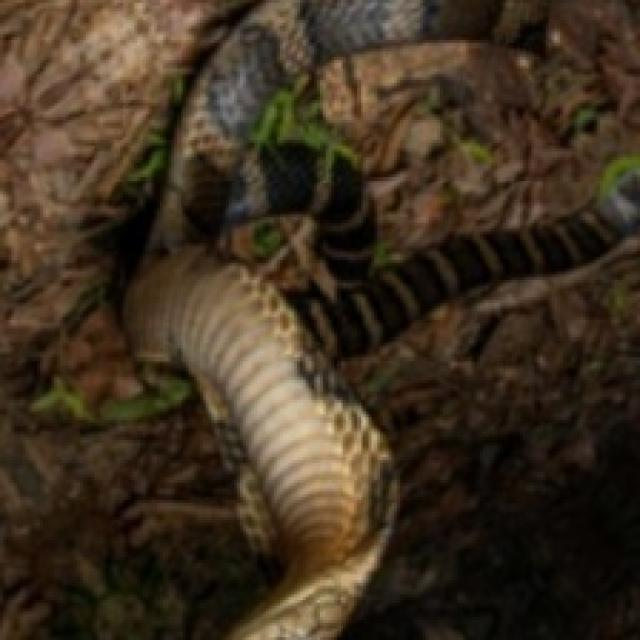king cobra: (126, 0, 637, 637)
